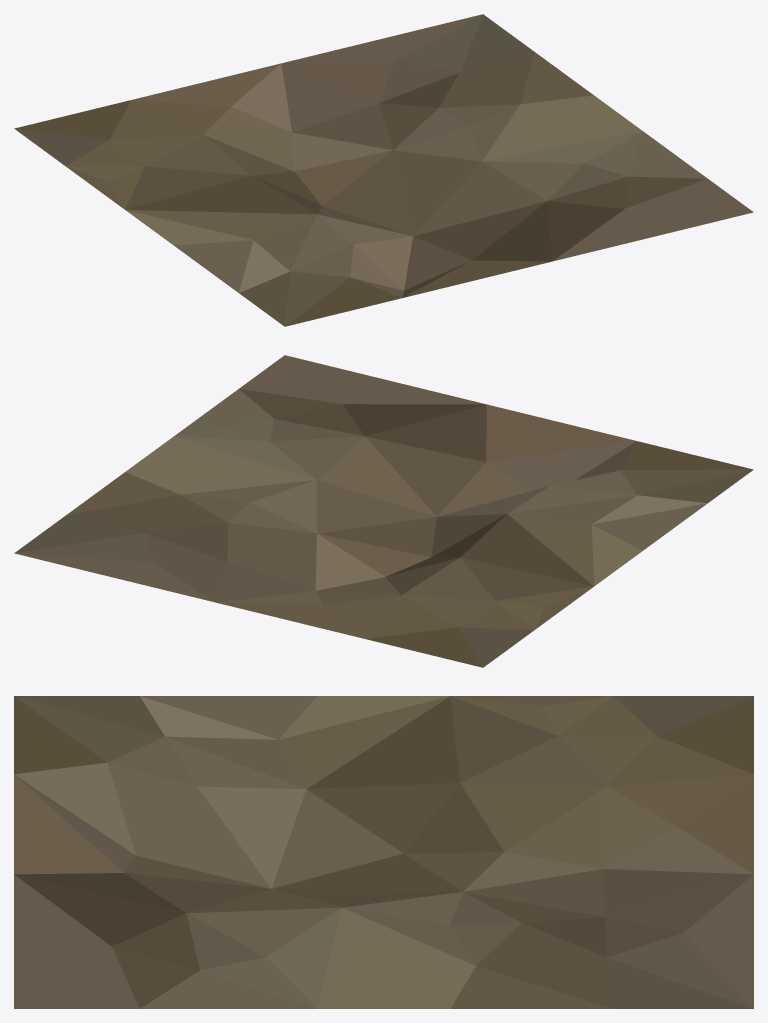
The model's file is Floor_UG-DirtA.fbx.
3 renders of one model, top to bottom at view 1: azimuth 30°, elevation 25°; view 2: azimuth 150°, elevation 25°; view 3: azimuth 270°, elevation 25°, orthographic. The views are drawn at different scales.
Parts seen in each view (by area): view 1: Floor_UG-DirtA; view 2: Floor_UG-DirtA; view 3: Floor_UG-DirtA.
Boxes of the visible parts, x1,y1,x2,y2 form: Floor_UG-DirtA: (14, 14, 753, 326); Floor_UG-DirtA: (14, 355, 753, 667); Floor_UG-DirtA: (14, 696, 753, 1008).
Size of the model in its own units: 400 by 29.9 by 400.
